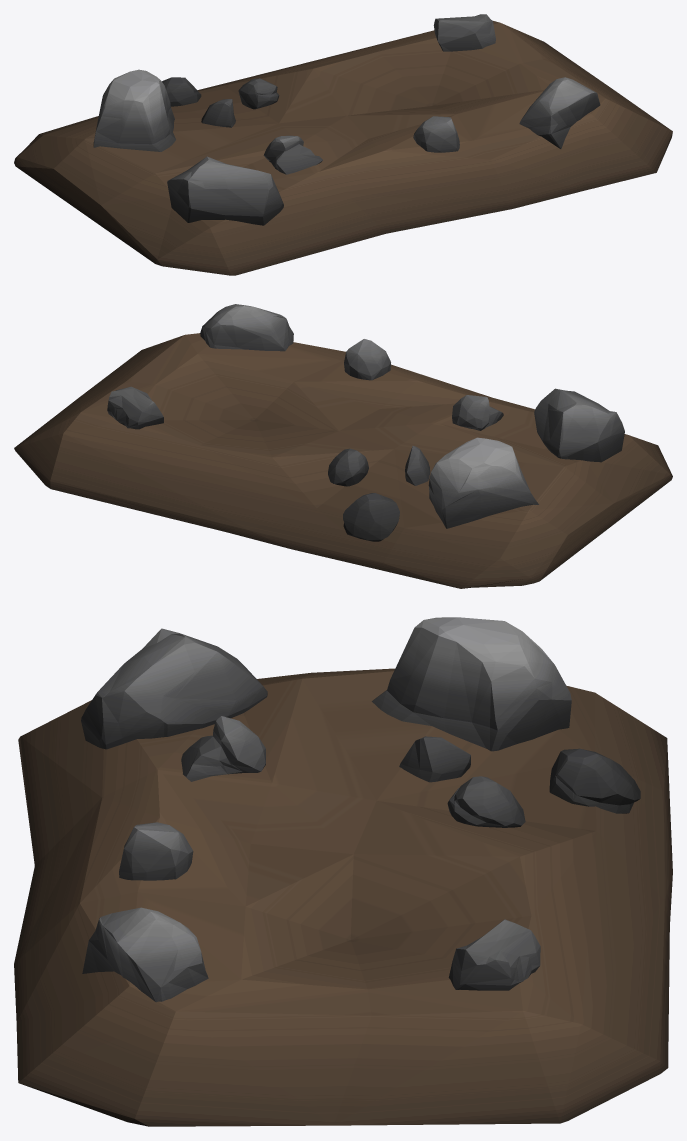
Rendered from EA_Grave_Mud_Flat_01a.glb.
3 views of the same model, one above another, from view 1: azimuth 30°, elevation 25°; view 2: azimuth 150°, elevation 25°; view 3: azimuth 270°, elevation 25° (orthographic). The views are drawn at different scales.
Visible parts, largest first — view 1: EA_Grave_Mud_Flat_01a; view 2: EA_Grave_Mud_Flat_01a; view 3: EA_Grave_Mud_Flat_01a.
Boxes of the visible parts, x1,y1,x2,y2 form: EA_Grave_Mud_Flat_01a: (14,14,672,275); EA_Grave_Mud_Flat_01a: (14,304,672,588); EA_Grave_Mud_Flat_01a: (14,617,672,1126).
Bounding box in the file's own units: 2.78 × 0.4445 × 1.8.
Materials: 1 (1 with a texture image).
